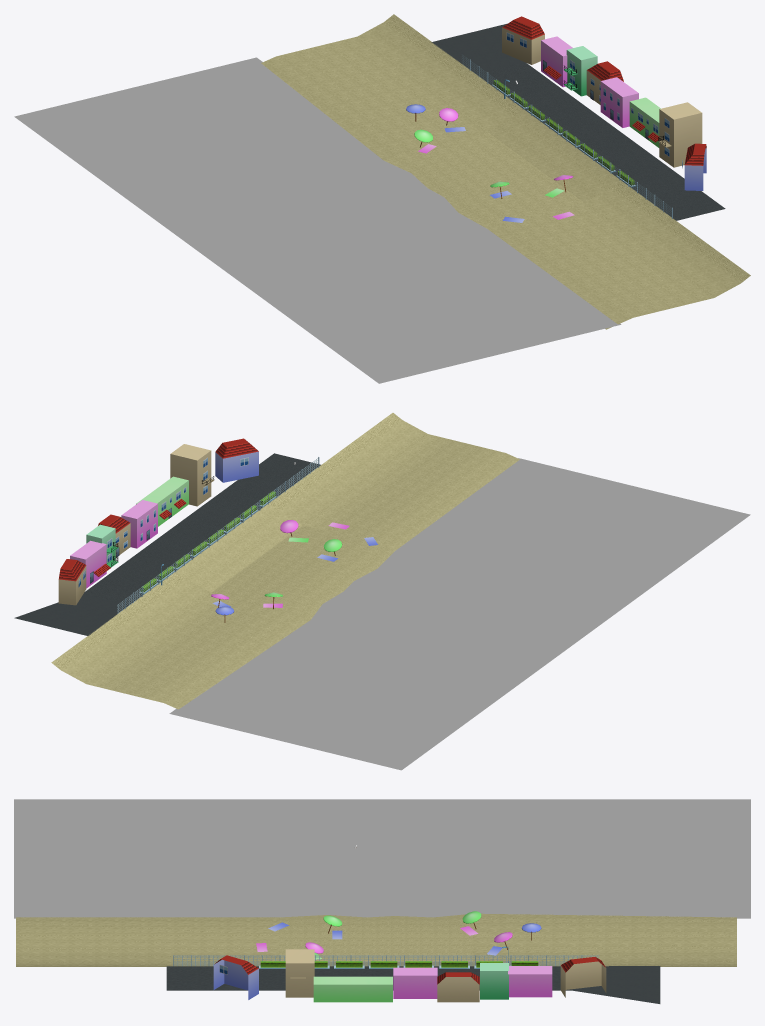
Rendered from plaza.fbx.
3 views of the same model, one above another, from view 1: azimuth 30°, elevation 25°; view 2: azimuth 150°, elevation 25°; view 3: azimuth 270°, elevation 25° (orthographic). The views are drawn at different scales.
Parts seen in each view (by area): view 1: pPlane26, polySurface120, polySurface121, polySurface83, polySurface107, polySurface119, pCube43, pCube44, polySurface88, polySurface67; view 2: pPlane26, polySurface120, polySurface121, polySurface83, polySurface107, polySurface119, pCube44, pCube43, polySurface67, polySurface88; view 3: pPlane26, polySurface83, polySurface121, polySurface120, polySurface107, pCube43, polySurface88, pCube44, polySurface67.
Boxes of the visible parts, <box> form: pPlane26: <box>14,57,621,383</box>; polySurface120: <box>261,14,524,160</box>; polySurface121: <box>488,180,750,329</box>; polySurface83: <box>431,23,725,220</box>; polySurface107: <box>384,132,583,228</box>; polySurface119: <box>488,110,619,202</box>; pCube43: <box>502,16,544,64</box>; pCube44: <box>684,143,706,190</box>; polySurface88: <box>461,54,567,141</box>; polySurface67: <box>567,131,672,218</box>; pPlane26: <box>169,458,750,770</box>; polySurface120: <box>51,571,310,709</box>; polySurface121: <box>268,413,519,550</box>; polySurface83: <box>14,444,320,635</box>; polySurface107: <box>211,525,394,619</box>; polySurface119: <box>176,504,302,592</box>; pCube44: <box>215,438,258,482</box>; pCube43: <box>58,559,86,605</box>; polySurface67: <box>218,457,319,539</box>; polySurface88: <box>117,530,218,613</box>; pPlane26: <box>14,799,750,918</box>; polySurface83: <box>166,946,660,1003</box>; polySurface121: <box>16,917,279,966</box>; polySurface120: <box>473,913,736,966</box>; polySurface107: <box>279,914,473,961</box>; pCube43: <box>560,957,606,997</box>; polySurface88: <box>386,955,598,966</box>; pCube44: <box>213,955,258,999</box>; polySurface67: <box>173,955,385,966</box>.
Bounding box in the file's own units: 1177 × 262 × 1625.
